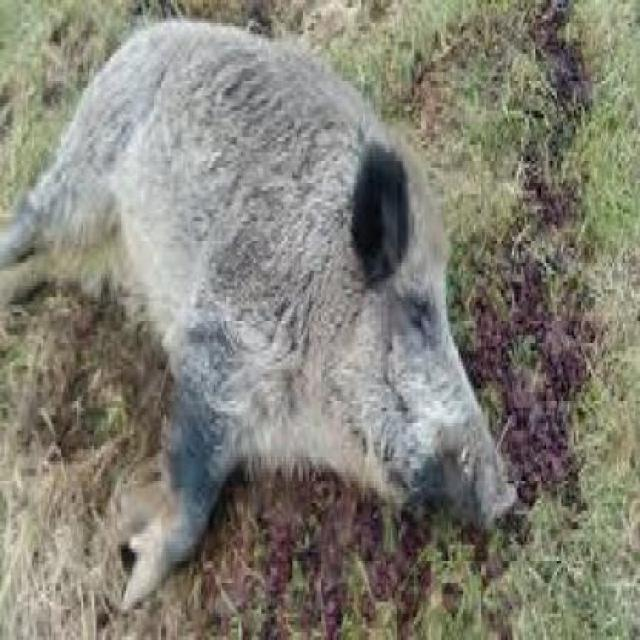wildboar: (0, 12, 514, 610)
